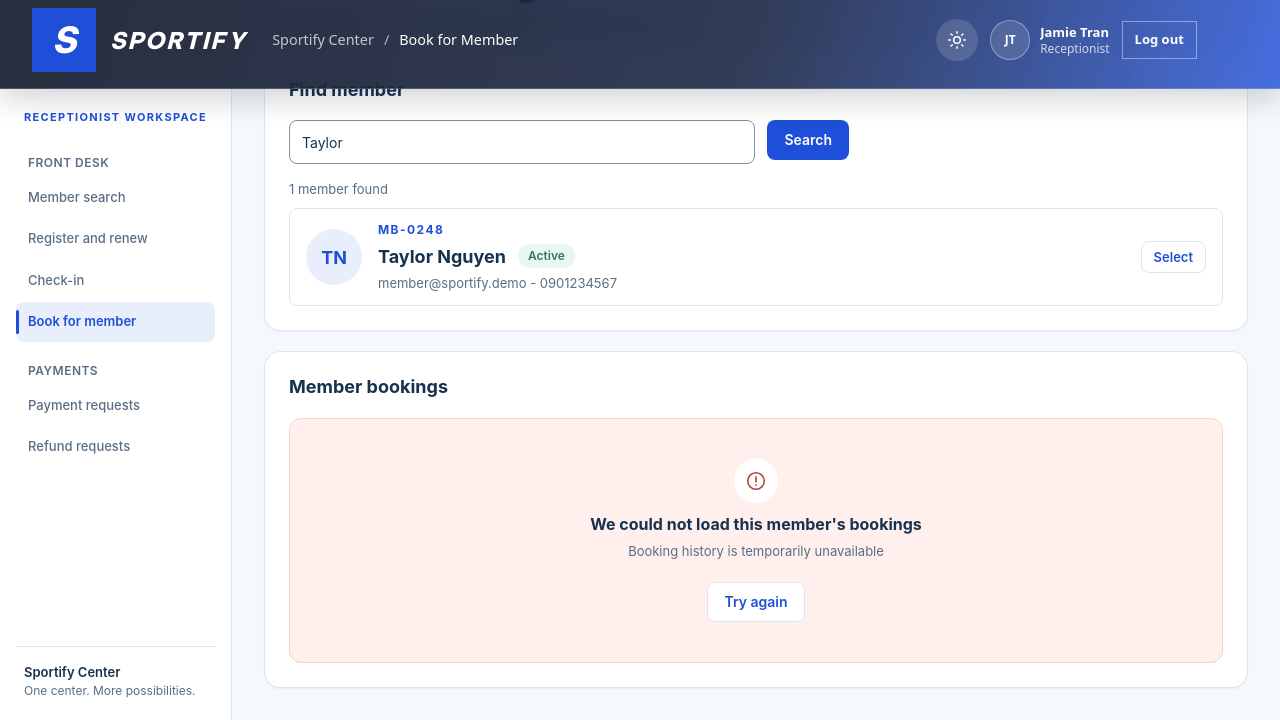
FE-10 receptionist booking screens › shows backend booking history errors and retries the read
(page scrolled)
expect the text "Booking history is temporarily unavailable" is shown: met, box [628,542,884,562]
Click the button "Try again" at {"x": 756, "y": 602}, box [708,582,805,622]
(page scrolled)
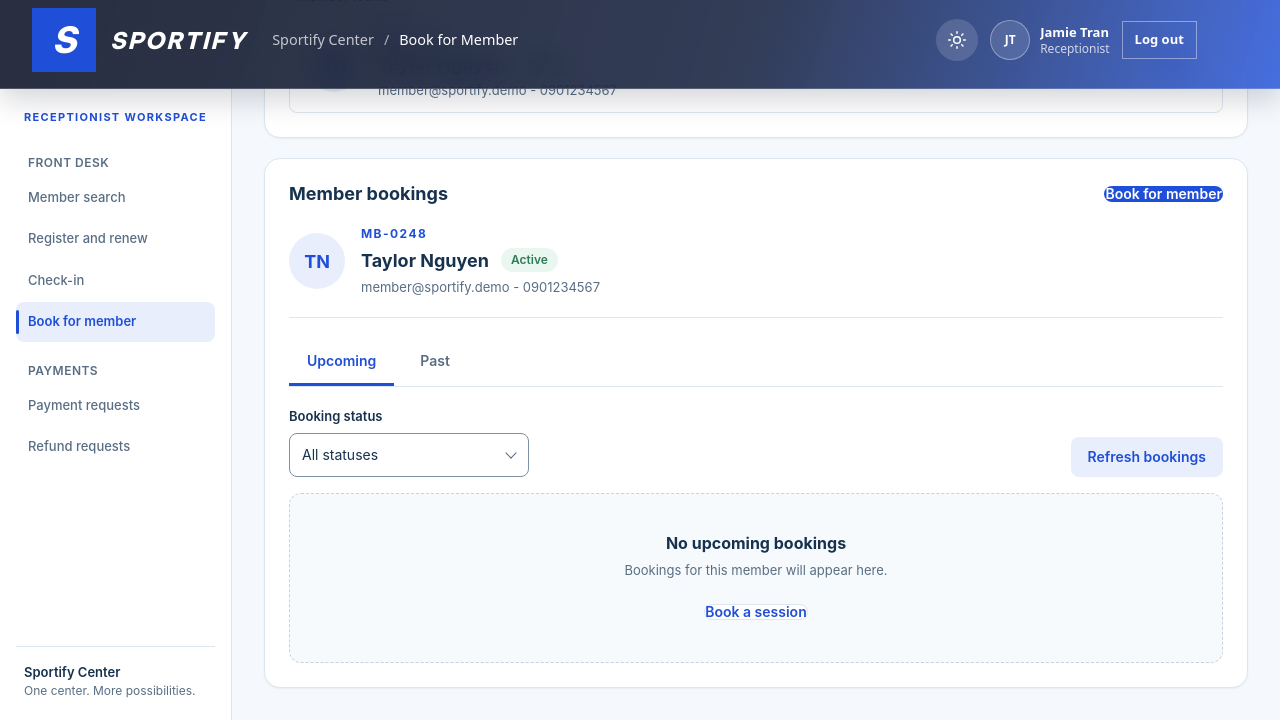
expect the heading "No upcoming bookings" is shown: met, box [666,534,846,553]
